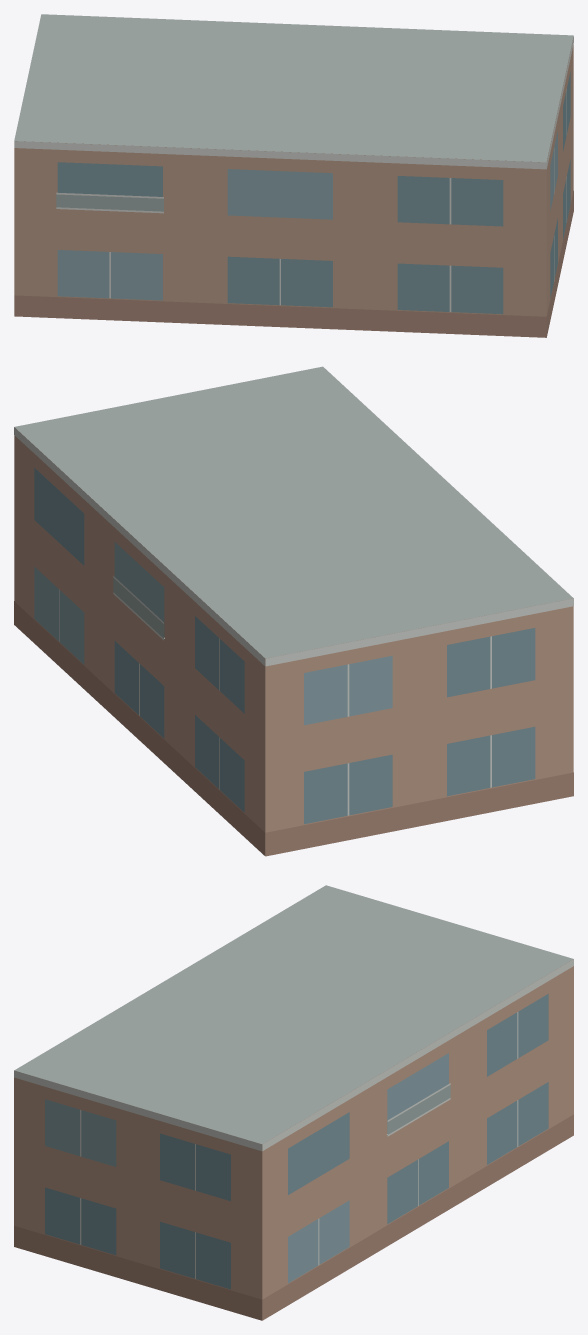
File: survey-upis-32905377.glb
The picture shows the model from 3 angles, top to bottom: view 1: azimuth 30°, elevation 25°; view 2: azimuth 150°, elevation 25°; view 3: azimuth 270°, elevation 25°; orthographic projection. The views are drawn at different scales.
Visible parts, largest first — view 1: survey-upis-32905377.tmp; view 2: survey-upis-32905377.tmp; view 3: survey-upis-32905377.tmp.
Boxes of the visible parts, x1,y1,x2,y2 form: survey-upis-32905377.tmp: (14,14,573,337); survey-upis-32905377.tmp: (14,366,573,856); survey-upis-32905377.tmp: (14,885,573,1320).
Bounding box in the file's own units: 19.23 × 6.1 × 17.55.
